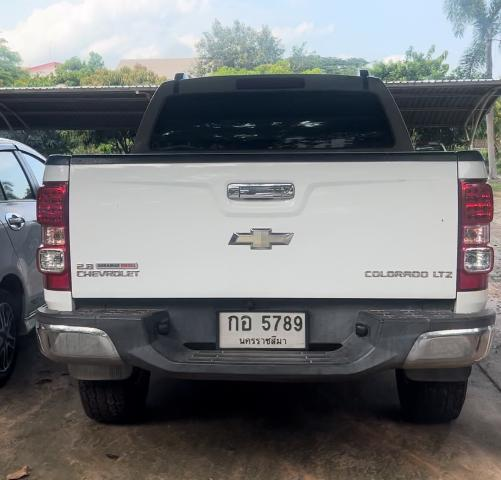pickup-truck: (31, 62, 496, 428)
